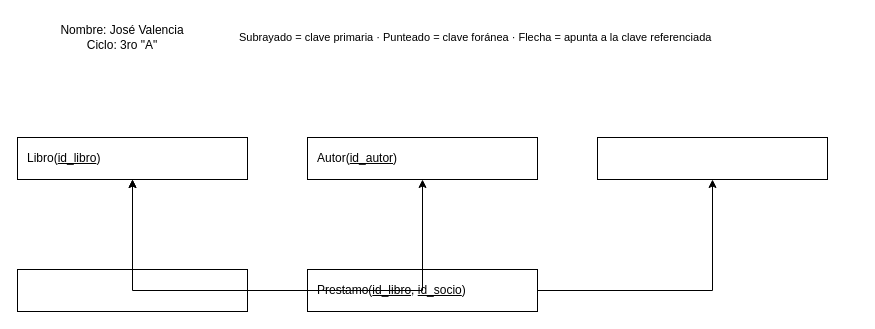
This 875x329 diagram has some shape labels left out. Each missing label, with the centre of its shape:
Es_Escrito( id_libro , id_autor ): pixel 132 290
Socio( id_socio ): pixel 712 158
